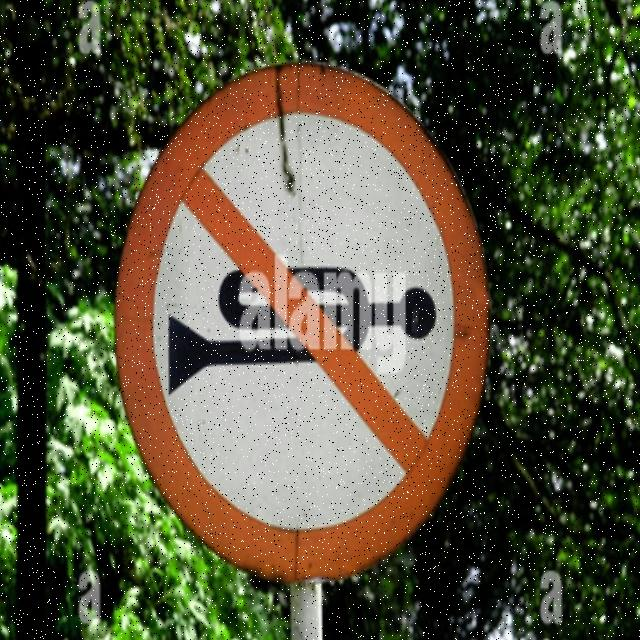No_Horn: (111, 63, 485, 566)
